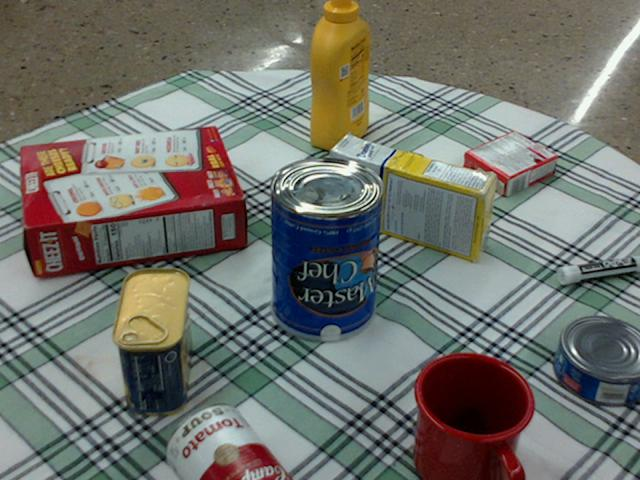cracker_box: (21, 127, 243, 276)
gelatin_box: (462, 130, 556, 196)
large_marker: (558, 255, 639, 283)
master_chef_can: (270, 156, 384, 340)
mug: (411, 353, 533, 479)
mustard_bottle: (309, 0, 369, 149)
potted_meat_can: (112, 268, 190, 415)
sugar_box: (328, 135, 497, 261)
tomato_soup_can: (165, 405, 288, 479)
tuna_fish_can: (554, 316, 639, 405)
